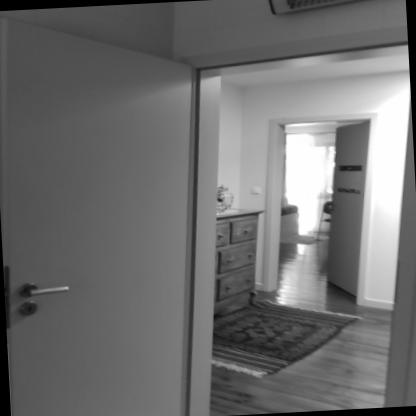open: (246, 106, 396, 314)
